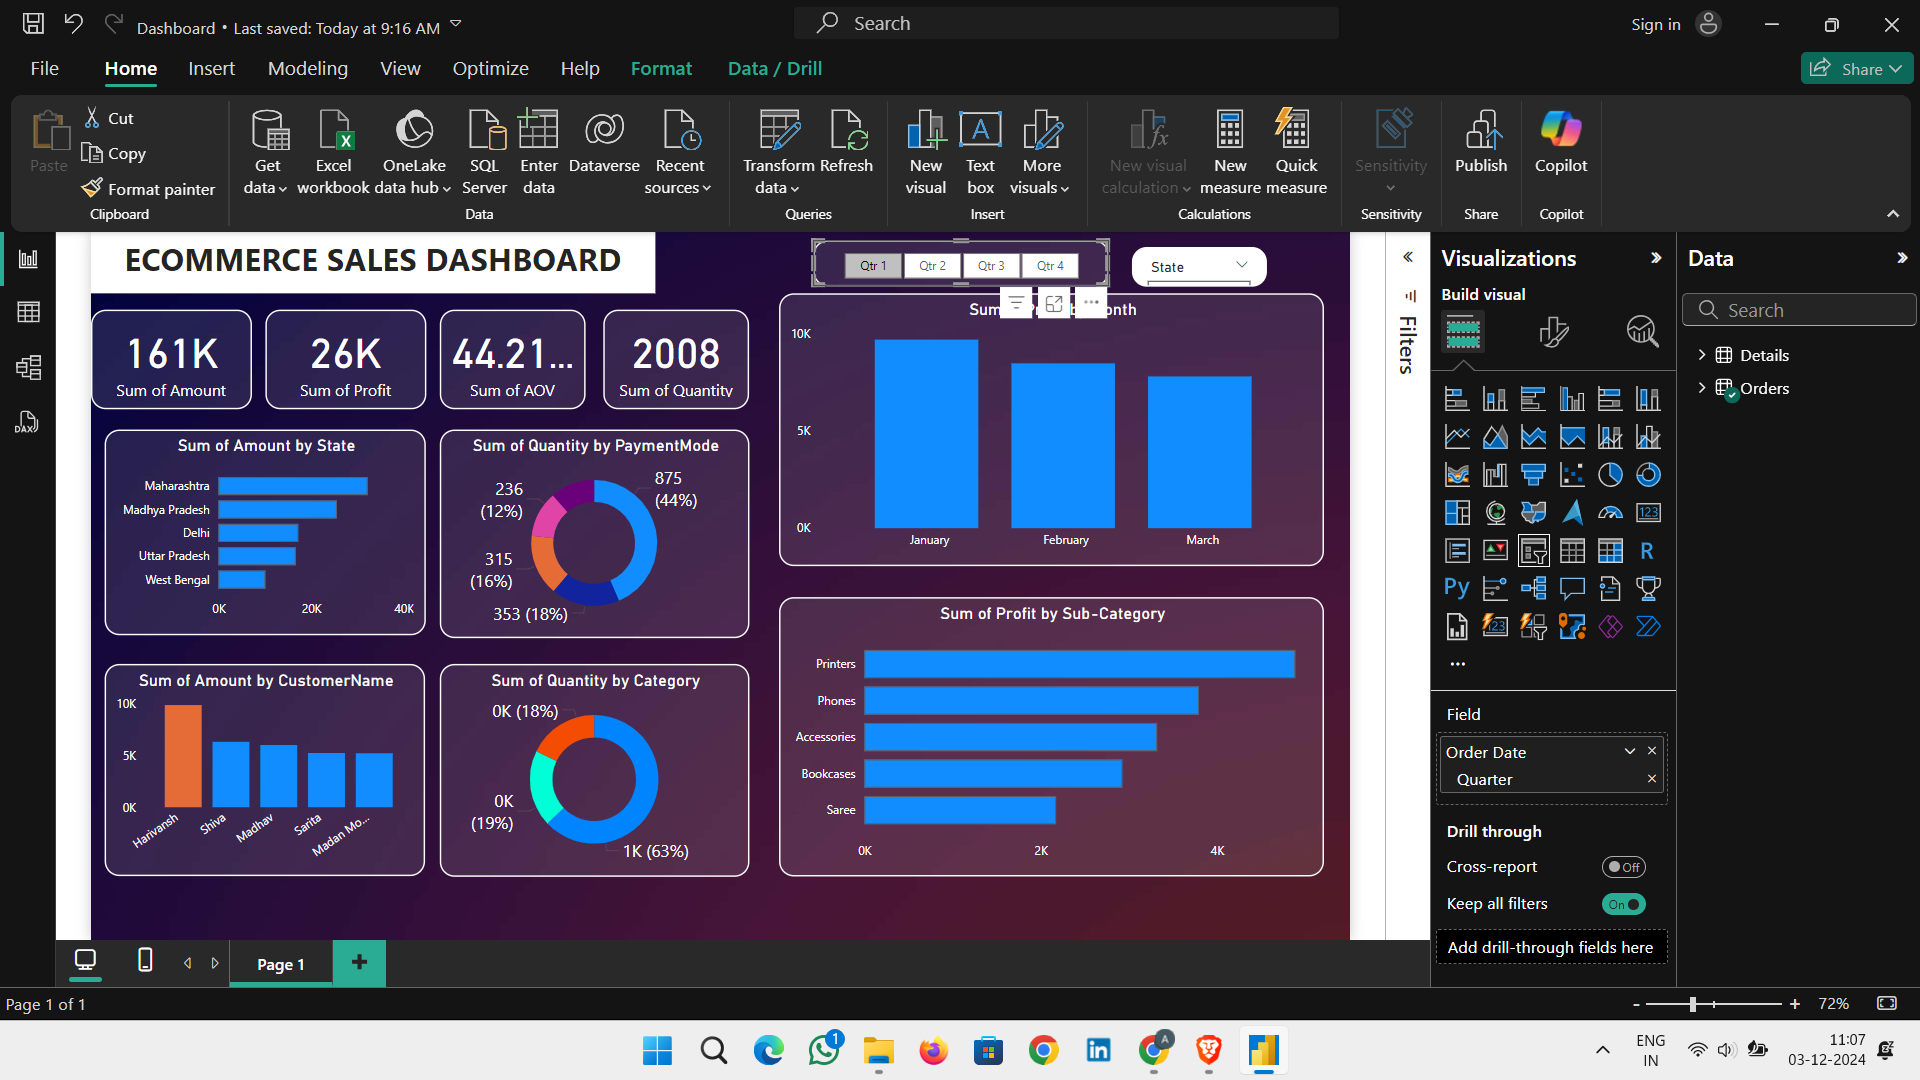

The page's visual inventory and layout, read from the dashboard file:
{"tool":"powerbi","page":{"name":"Page 1","canvas":[1280,720],"ordinal":0},"visuals":[{"type":"textbox","box":[0,0,573.6,62.4],"z":0},{"type":"columnChart","title":"Sum of Profit by Month","fields":{"Category":["Orders.Order Date.Variation.Date Hierarchy.Month"],"Y":["Sum(Details.Profit)"]},"box":[699.7,62.4,554.2,277.1],"z":1000},{"type":"barChart","fields":{"Category":["Details.Sub-Category"],"Y":["Sum(Details.Profit)"]},"box":[699.7,371.3,554.2,284],"z":2000},{"type":"donutChart","fields":{"Category":["Details.Category"],"Y":["Sum(Details.Quantity)"]},"box":[354.7,439.2,314.5,216.1],"z":3000},{"type":"donutChart","fields":{"Category":["Details.PaymentMode","Details.Category"],"Y":["Sum(Details.Quantity)"]},"box":[354.7,200.9,314.5,212],"z":4000},{"type":"card","fields":{"Values":["Sum(Details.Amount)"]},"box":[0,79,163.5,101.1],"z":5000},{"type":"card","fields":{"Values":["Sum(Details.Profit)"]},"box":[177.4,79,163.5,101.1],"z":6000},{"type":"card","fields":{"Values":["Sum(Details.AOV)"]},"box":[354.7,79,148.3,101.1],"z":7000},{"type":"card","fields":{"Values":["Sum(Details.Quantity)"]},"box":[521,79,148.3,101.1],"z":8000},{"type":"barChart","fields":{"Category":["Orders.State"],"Y":["Sum(Details.Amount)"]},"box":[14.3,201.3,326.5,209.2],"z":9000},{"type":"columnChart","fields":{"Category":["Orders.CustomerName"],"Y":["Sum(Details.Amount)"]},"box":[14,439,326,216],"z":10000},{"type":"slicer","fields":{"Values":["Orders.Order Date.Variation.Date Hierarchy.Quarter"]},"box":[734.4,8.3,300.7,47.1],"z":11000},{"type":"slicer","fields":{"Values":["Orders.State"]},"box":[1058.6,15.2,137.2,40.2],"z":12000}]}

Visuals, with their boxes on the page's 1280x720 design canvas (x1, y1, x2, y2). These are canvas units, not pixel positions in the 1920x1080 screenshot, which may show the page scaled, cropped or inside an application window:
textbox: 0,0,574,62
"Sum of Profit by Month" columnChart: 700,62,1254,340
barChart - Details.Sub-Category x Sum(Details.Profit): 700,371,1254,655
donutChart - Details.Category x Sum(Details.Quantity): 355,439,669,655
donutChart - Details.PaymentMode x Details.Category: 355,201,669,413
card - Sum(Details.Amount): 0,79,164,180
card - Sum(Details.Profit): 177,79,341,180
card - Sum(Details.AOV): 355,79,503,180
card - Sum(Details.Quantity): 521,79,669,180
barChart - Orders.State x Sum(Details.Amount): 14,201,341,410
columnChart - Orders.CustomerName x Sum(Details.Amount): 14,439,340,655
slicer - Orders.Order Date.Variation.Date Hierarchy.Quarter: 734,8,1035,55
slicer - Orders.State: 1059,15,1196,55
